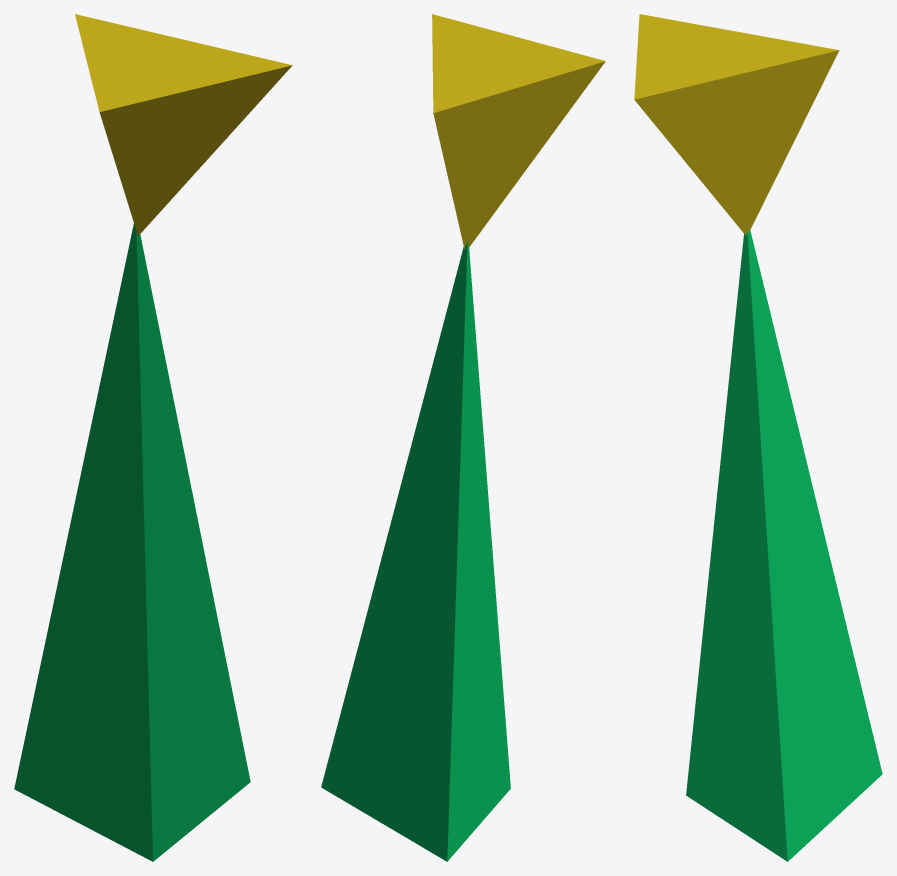
Rendered from Tulip_Yellow.fbx.
3 views of the same model, side by side, from view 1: azimuth 30°, elevation 25°; view 2: azimuth 150°, elevation 25°; view 3: azimuth 270°, elevation 25° (orthographic). The views are drawn at different scales.
Visible parts, largest first — view 1: Blossom, Branch; view 2: Blossom, Branch; view 3: Blossom, Branch.
Boxes of the visible parts, <box> form: Blossom: <box>14,224,250,861</box>; Branch: <box>75,14,292,234</box>; Blossom: <box>321,241,510,861</box>; Branch: <box>432,14,605,249</box>; Blossom: <box>686,230,882,861</box>; Branch: <box>634,14,839,235</box>.
Size of the model in its own units: 26.96 by 88.63 by 26.68.
